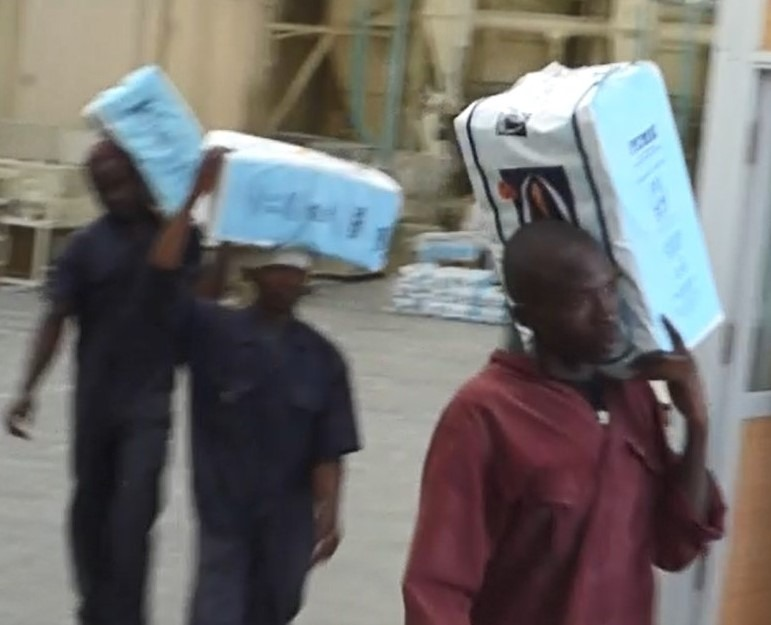wheat_flour_blue_label: (449, 58, 719, 351), (207, 127, 406, 270), (86, 68, 203, 202)
